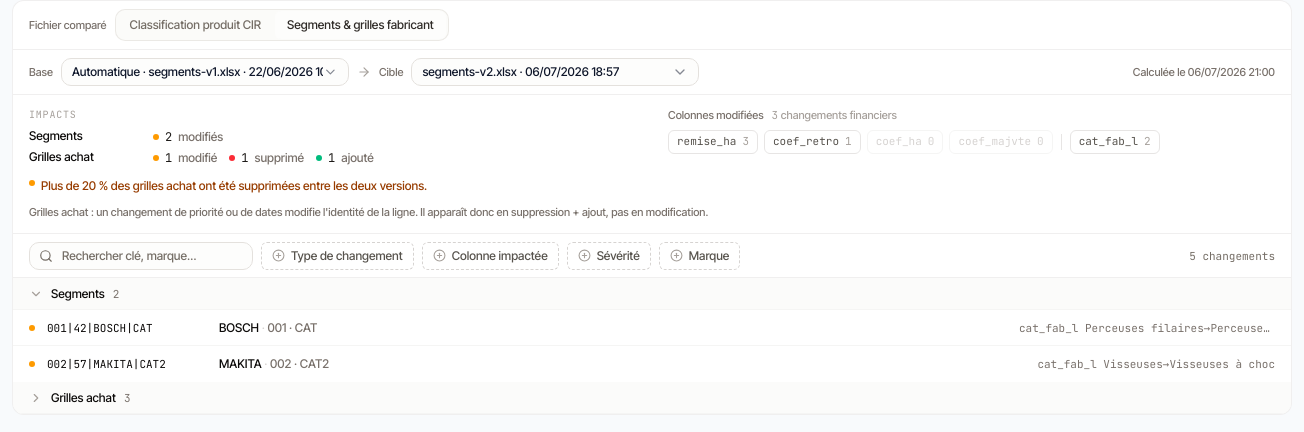
it: ChangesTriage › cadre la comparaison sur un seul fichier via le sélecteur de périmètre
Expected: the text "Impacts" is shown, [29,108,77,121]
Expected: the text "Grilles achat" below "Impacts" is shown, [29,149,94,164]
Note: Bascule sur la classification : le fichier segments n'est plus affiché du tout.
Click the button with aria-label "comparer le fichier classification produit cir" at (195, 25), box [118,11,273,39]
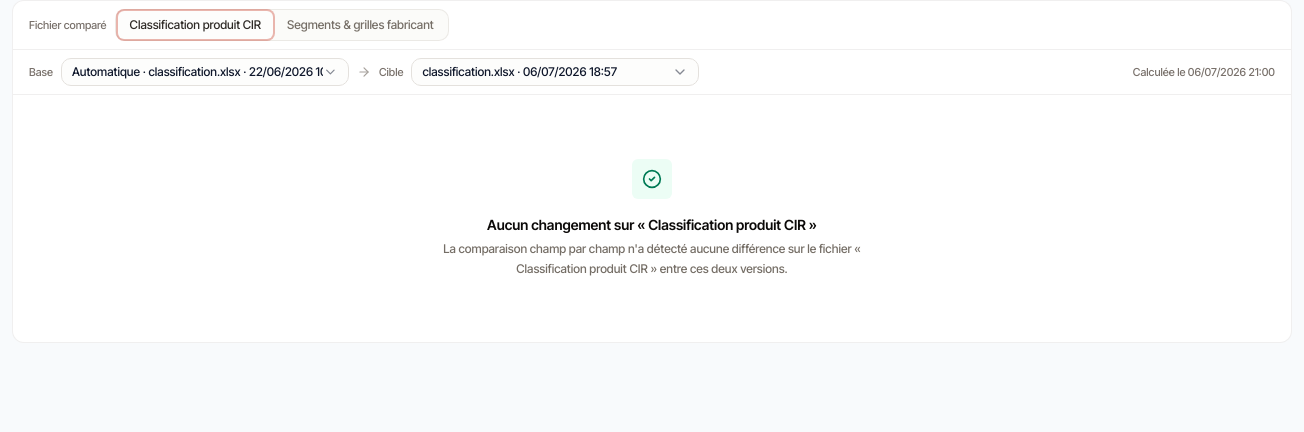
Expected: the text "Aucun changement sur « Classification produit CIR »" is shown, [487,215,817,235]
Expected: the text "Grilles achat" is gone
Expected: the text "Impacts" is gone
